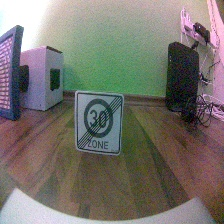dreisiger_zone_ende: (74, 90, 124, 156)
